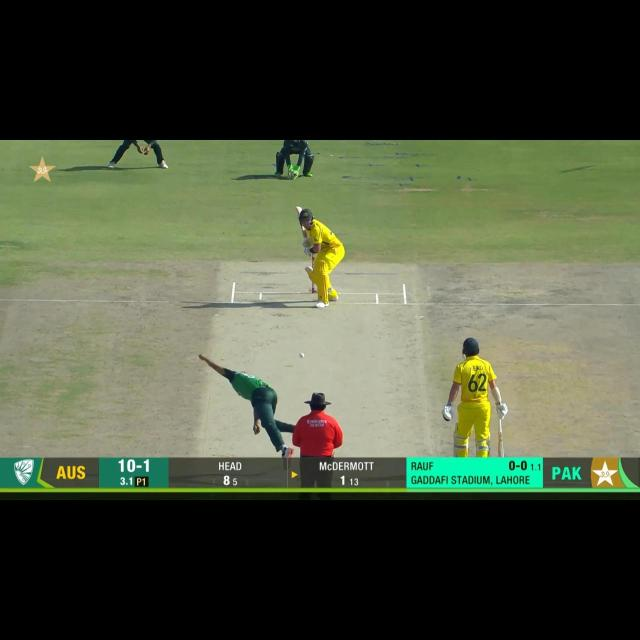bat: (294, 206, 309, 240), (497, 433, 504, 457)
toe: (295, 206, 303, 214)
